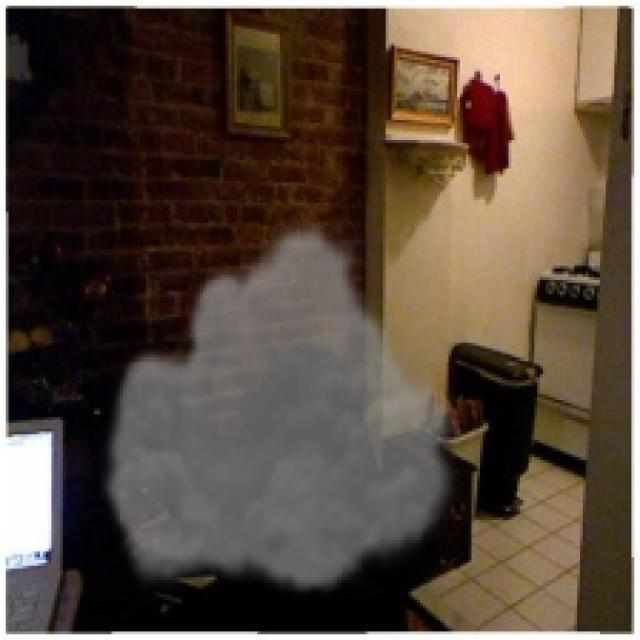Smoke: (97, 214, 466, 597)
